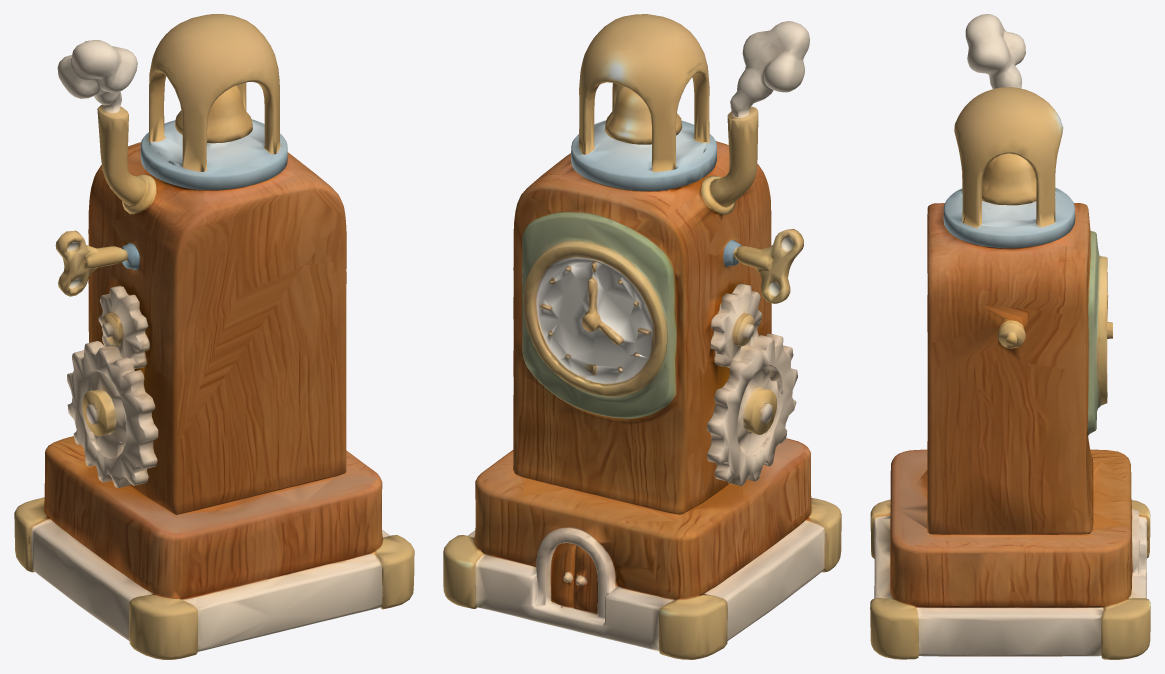
Rendered from horloge.glb.
3 views of the same model, side by side, from view 1: azimuth 30°, elevation 25°; view 2: azimuth 150°, elevation 25°; view 3: azimuth 270°, elevation 25° (orthographic). The views are drawn at different scales.
Visible parts, largest first — view 1: Horloge; view 2: Horloge; view 3: Horloge.
Boxes of the visible parts, x1=… form: Horloge: x1=14, y1=14, x2=414, y2=659; Horloge: x1=443, y1=14, x2=841, y2=659; Horloge: x1=870, y1=14, x2=1150, y2=659.
Bounding box in the file's own units: 1.59 × 3 × 1.44.
1 material, 1 textured.
